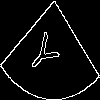Y: (25, 24, 66, 80)
